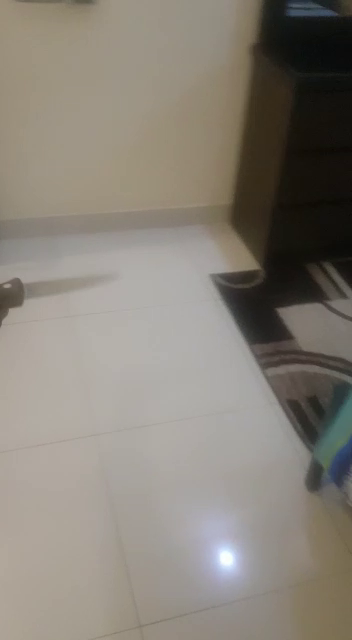knife: (3, 239, 171, 399)
